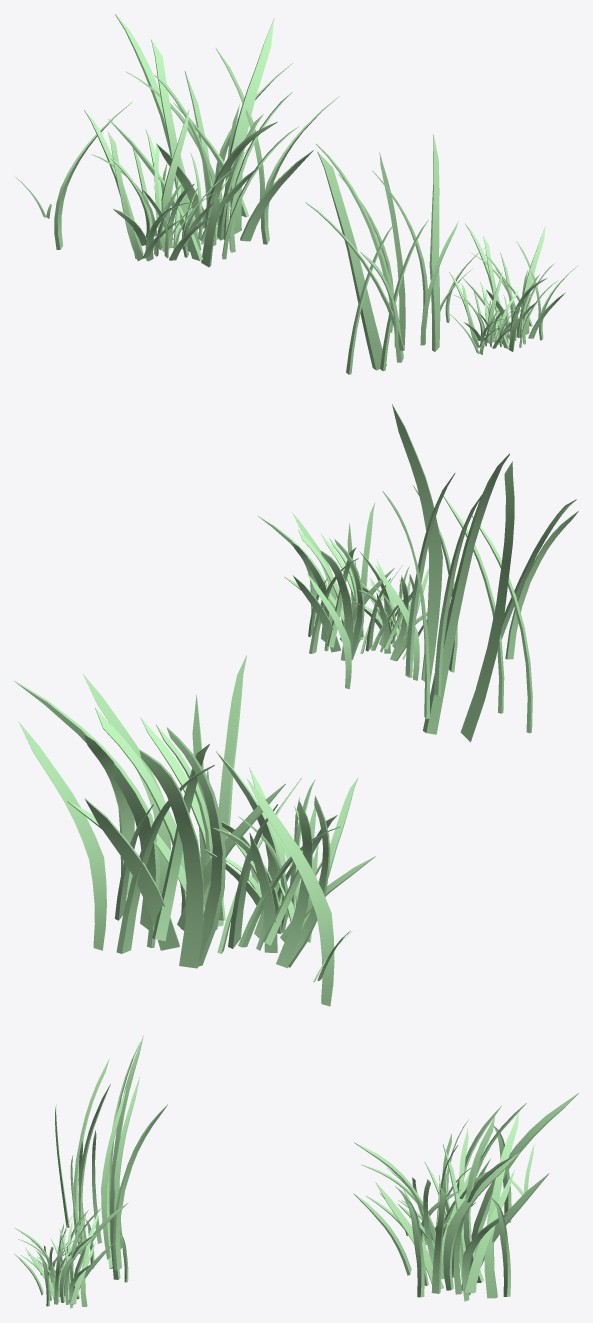
Rendered from sm_3dplants_01.gltf.
The picture shows the model from 3 angles, top to bottom: view 1: azimuth 30°, elevation 25°; view 2: azimuth 150°, elevation 25°; view 3: azimuth 270°, elevation 25°; orthographic projection. The views are drawn at different scales.
Parts seen in each view (by area): view 1: sm_3dplants_01; view 2: sm_3dplants_01; view 3: sm_3dplants_01.
Part boxes in pixels (x1,y1,x2,y2): sm_3dplants_01: (14,14,578,374); sm_3dplants_01: (14,403,578,1006); sm_3dplants_01: (14,1035,578,1308).
Bounding box in the file's own units: 0.8084 × 0.6321 × 1.38.
